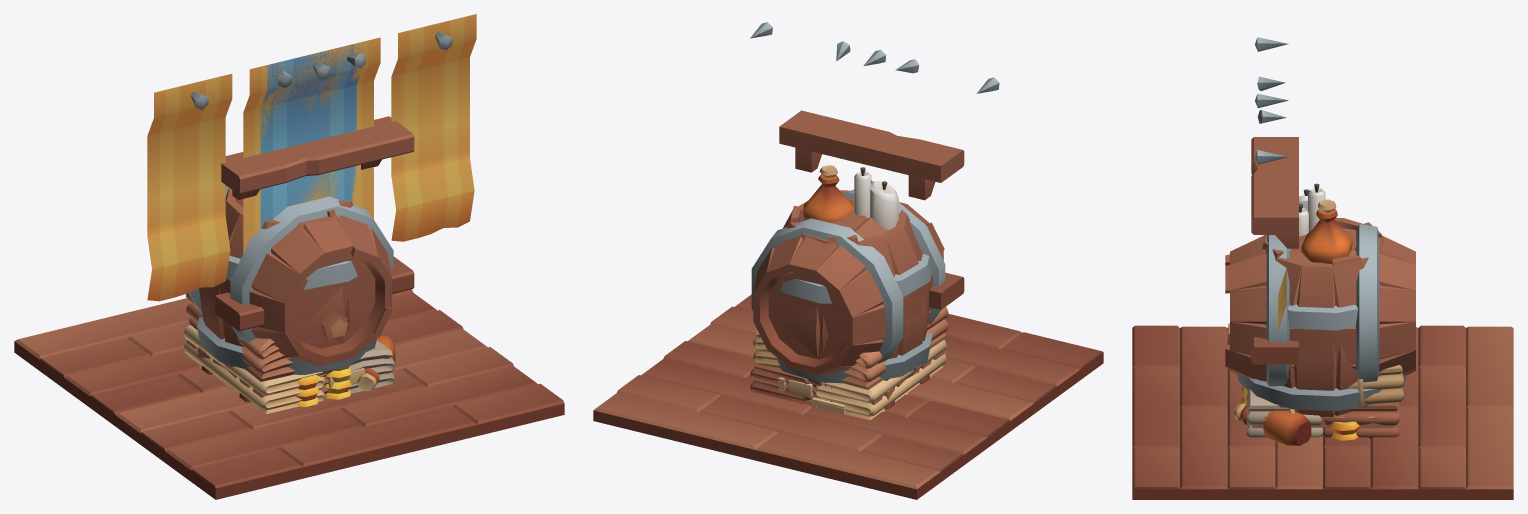
Rendered from market-quarter.glb.
The picture shows the model from 3 angles, left to right: view 1: azimuth 30°, elevation 25°; view 2: azimuth 150°, elevation 25°; view 3: azimuth 270°, elevation 25°; orthographic projection. The views are drawn at different scales.
Parts seen in each view (by area): view 1: floor_wood_large, banner_triple_yellow, keg, banner_thin_blue, shelves, barrel_large_decorated, Textiles_Stack_Large, box_small_decorated; view 2: floor_wood_large, keg, barrel_large_decorated, shelves, Textiles_Stack_Large, banner_triple_yellow, Wood_Planks_Stack_Small; view 3: floor_wood_large, keg, barrel_large_decorated, shelves, Textiles_Stack_Large, banner_triple_yellow, box_small_decorated.
Boxes of the visible parts, x1,y1,x2,y2 form: floor_wood_large: (14,289,564,499); banner_triple_yellow: (147,14,476,347); keg: (188,185,393,402); banner_thin_blue: (260,44,363,229); shelves: (215,116,414,335); barrel_large_decorated: (197,188,395,391); Textiles_Stack_Large: (183,293,395,413); box_small_decorated: (295,365,351,407); floor_wood_large: (593,294,1103,499); keg: (751,189,945,409); barrel_large_decorated: (777,165,932,386); shelves: (779,110,964,325); Textiles_Stack_Large: (750,307,948,420); banner_triple_yellow: (750,22,999,93); Wood_Planks_Stack_Small: (778,377,845,414); floor_wood_large: (1132,325,1513,499); keg: (1225,224,1415,407); barrel_large_decorated: (1233,183,1405,445); shelves: (1251,137,1298,377); Textiles_Stack_Large: (1246,365,1403,438); banner_triple_yellow: (1255,37,1288,330); box_small_decorated: (1241,386,1359,440).
Size of the model in its own units: 4 by 3.83 by 4.
Materials: 3 (3 with a texture image).
